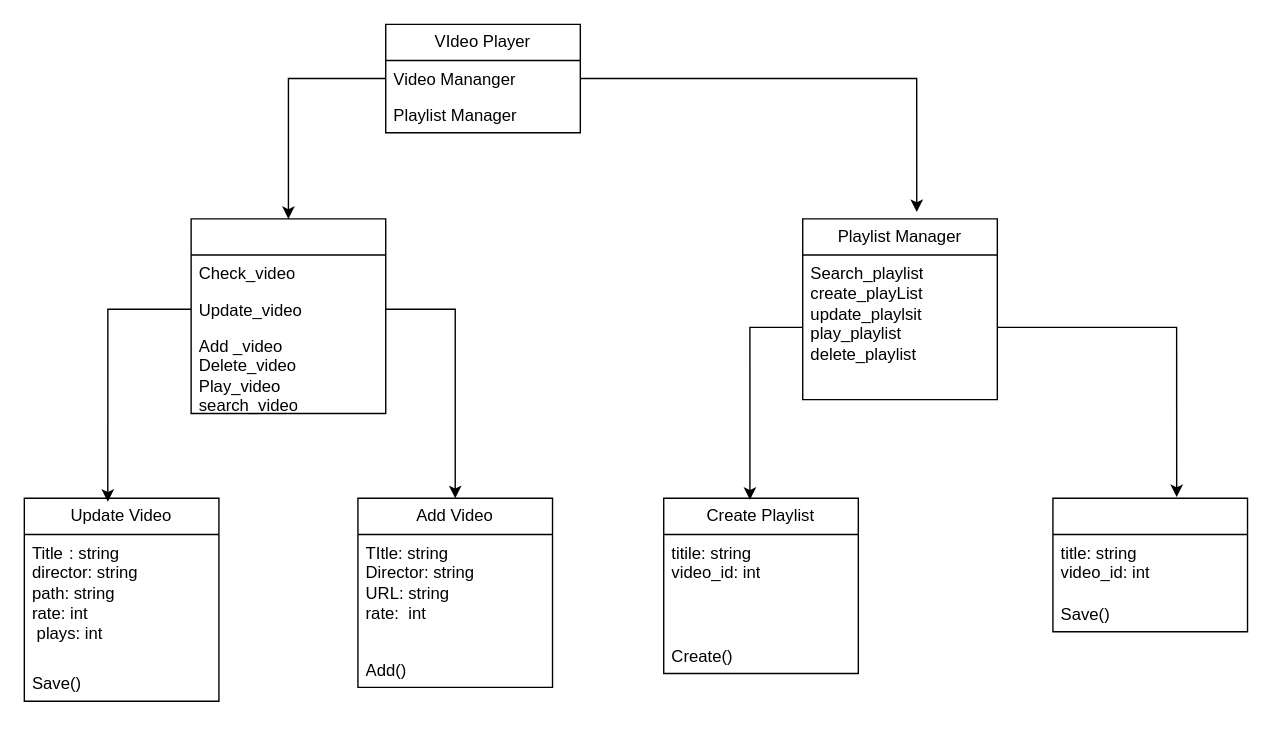
This 1272x730 diagram has some shape labels left out. The shapes that lost their labels are listed below. From the top down, each one's box as (x1, y1, x2, y2) in pixels, then its label:
(190, 218, 386, 414): Video Manager
(1052, 497, 1248, 632): Update Playlist
